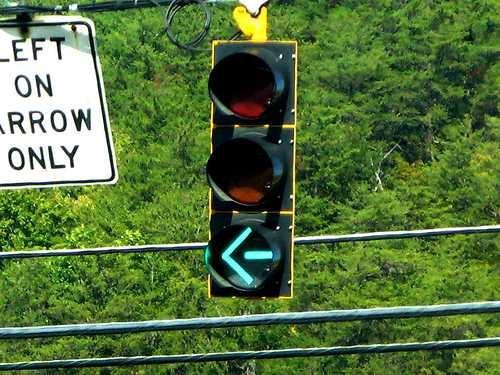green: (212, 40, 287, 302), (210, 220, 287, 295)
